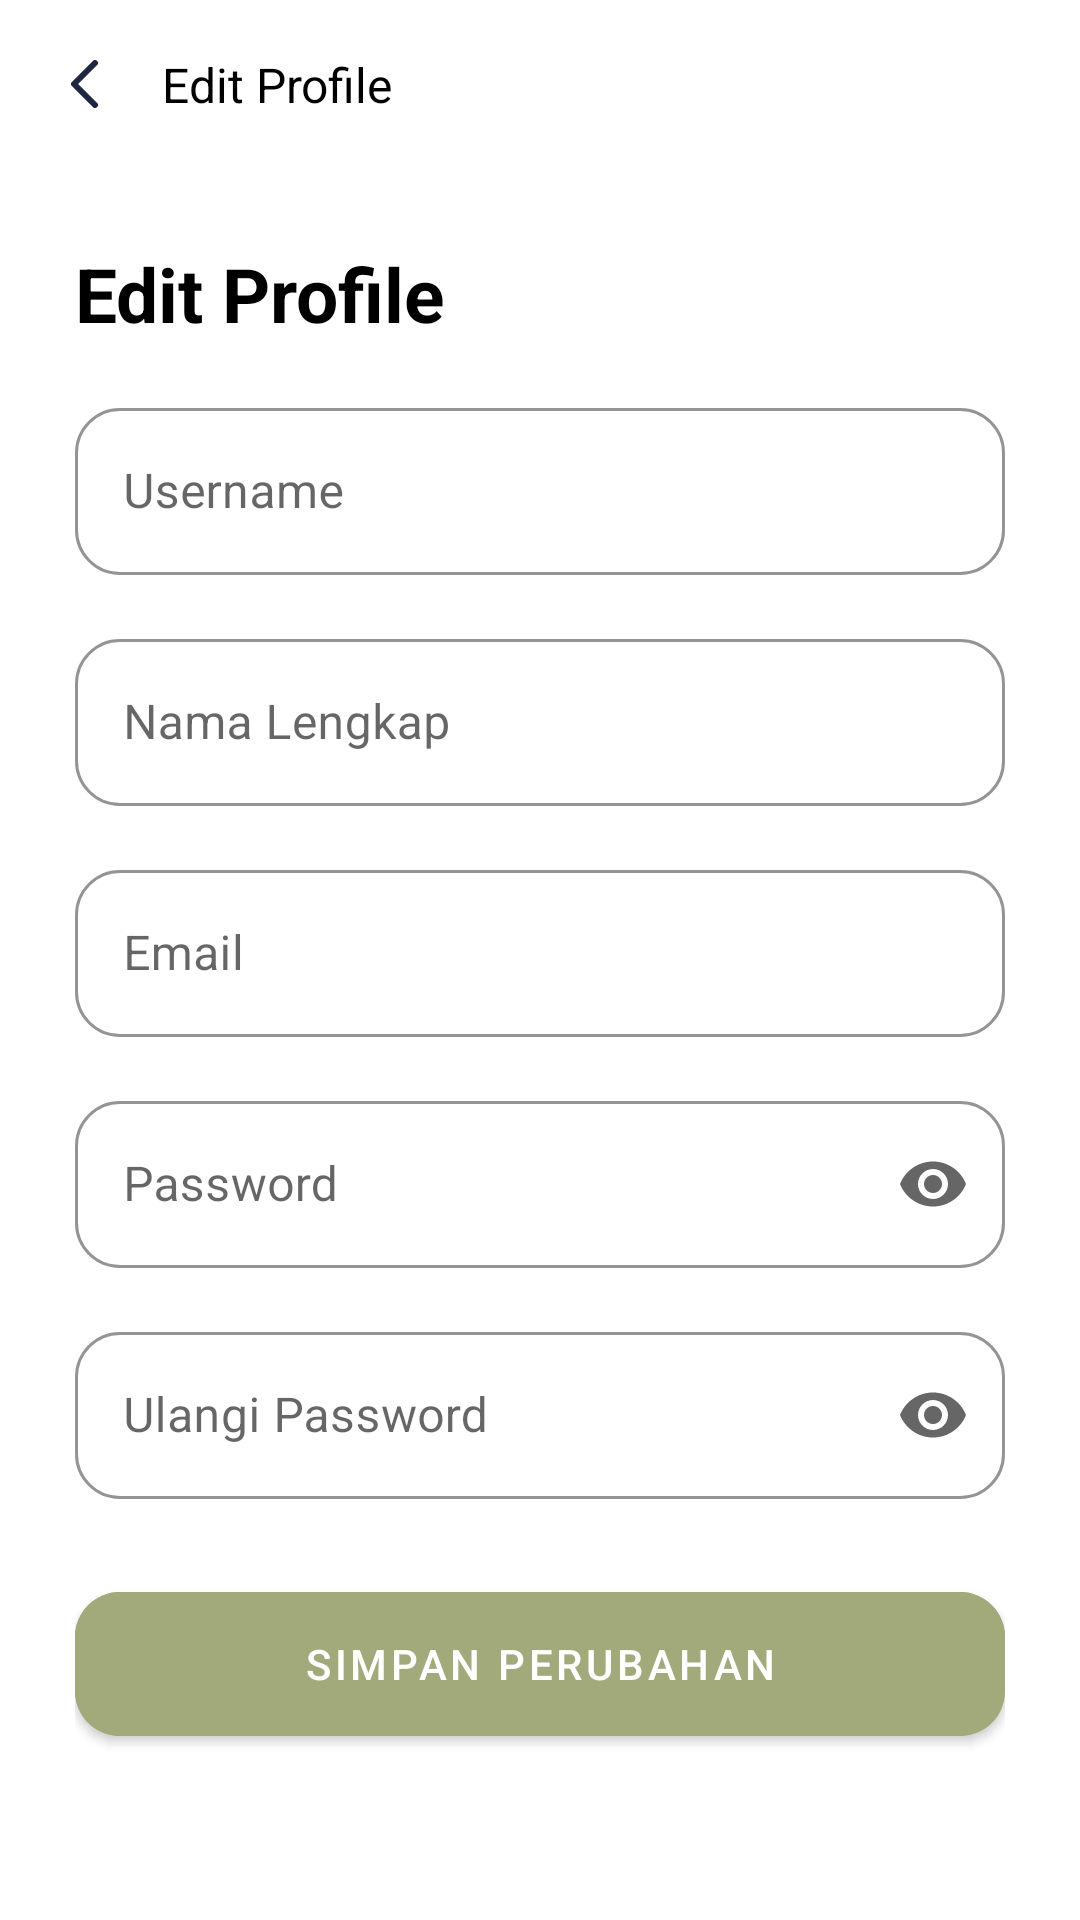

Where to tap for icons on this 1080px×1920px app screen, as [x,y]:
Button Back: [84,84]
